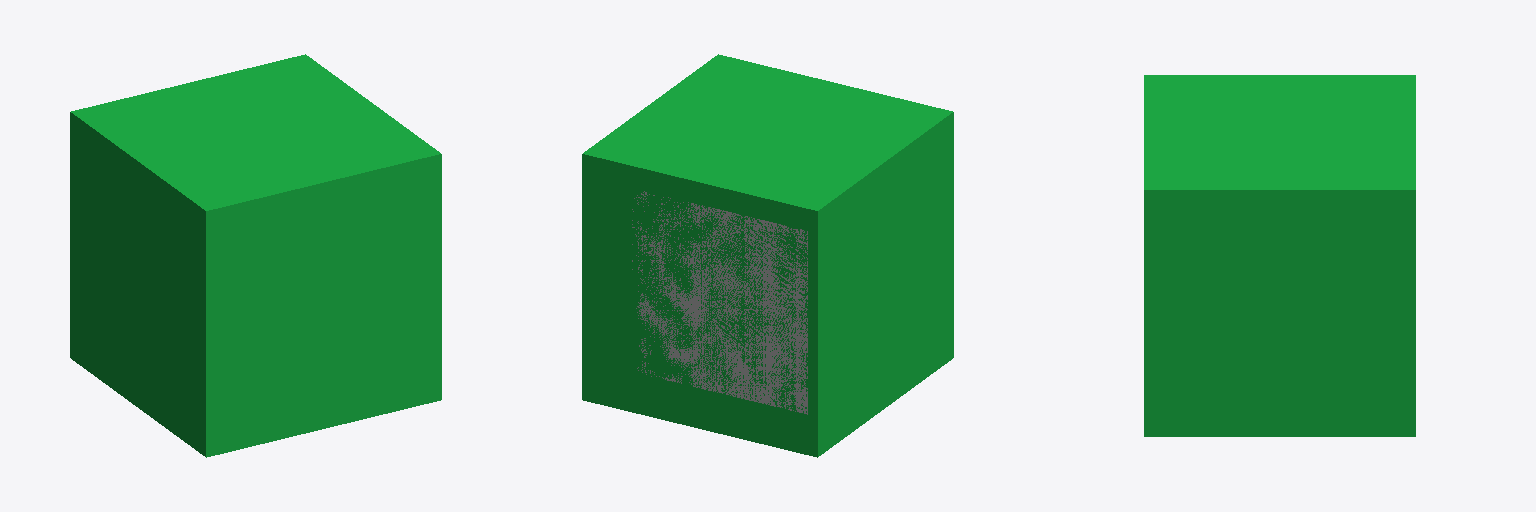
File: signpanel.obj
3 views of the same model, side by side, from view 1: azimuth 30°, elevation 25°; view 2: azimuth 150°, elevation 25°; view 3: azimuth 270°, elevation 25° (orthographic).
Visible parts, largest first — view 1: Object.1; view 2: Object.1, Object.2; view 3: Object.1.
Part boxes in pixels (x1,y1,x2,y2): Object.1: (70, 54, 441, 457); Object.1: (582, 54, 953, 457); Object.2: (632, 191, 807, 414); Object.1: (1144, 75, 1415, 436).
Size of the model in its own units: 40 by 40 by 40.